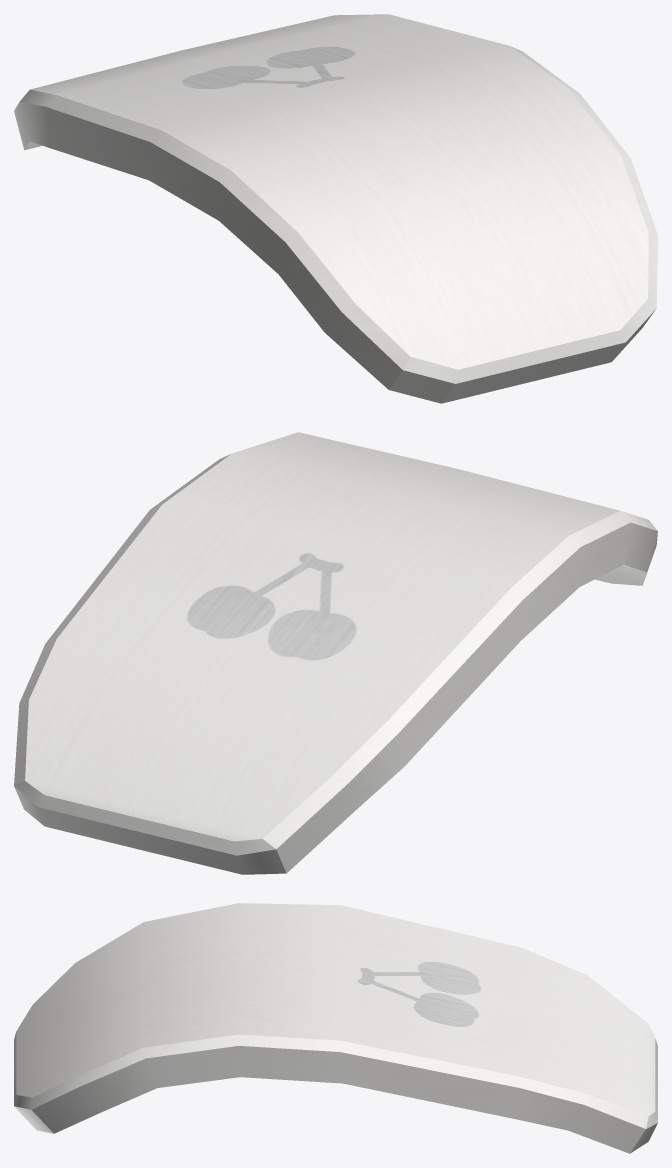
The model's file is mouse.fbx.
The picture shows the model from 3 angles, top to bottom: view 1: azimuth 30°, elevation 25°; view 2: azimuth 150°, elevation 25°; view 3: azimuth 270°, elevation 25°; orthographic projection. The views are drawn at different scales.
Visible parts, largest first — view 1: mouse; view 2: mouse; view 3: mouse.
Boxes of the visible parts, box(x1,y1,x2,y2) form: mouse: box(14, 14, 657, 403); mouse: box(14, 432, 657, 874); mouse: box(14, 903, 657, 1153).
Bounding box in the file's own units: 0.1647 × 0.0719 × 0.3089.
